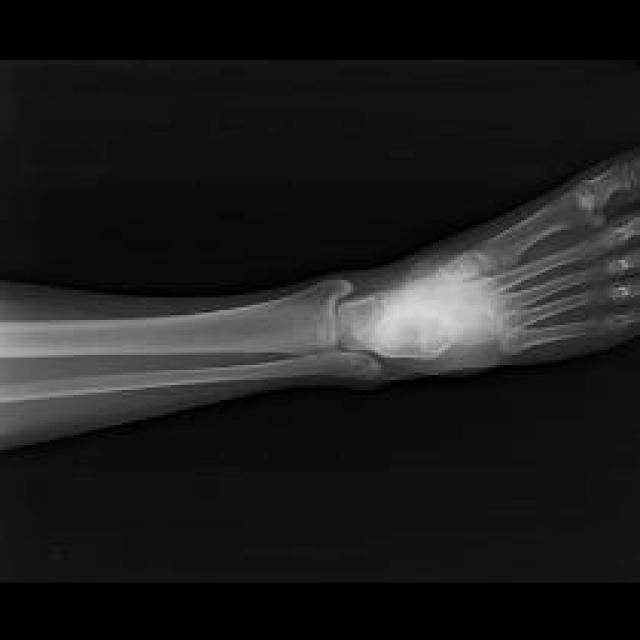normal: (0, 164, 640, 355), (0, 355, 387, 400)
